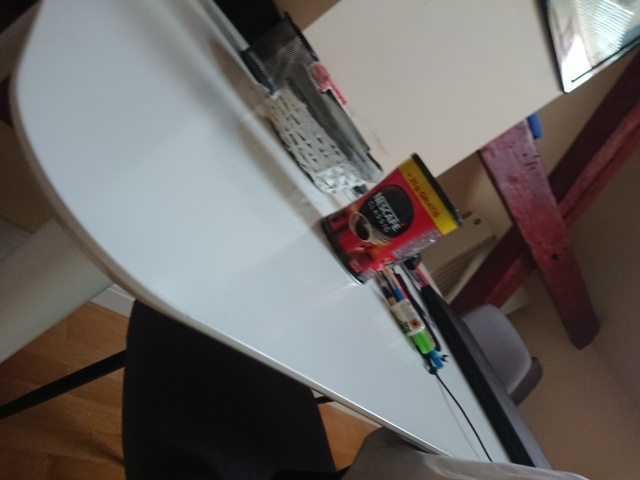Nescafe Classic 225g: (317, 150, 467, 288)
